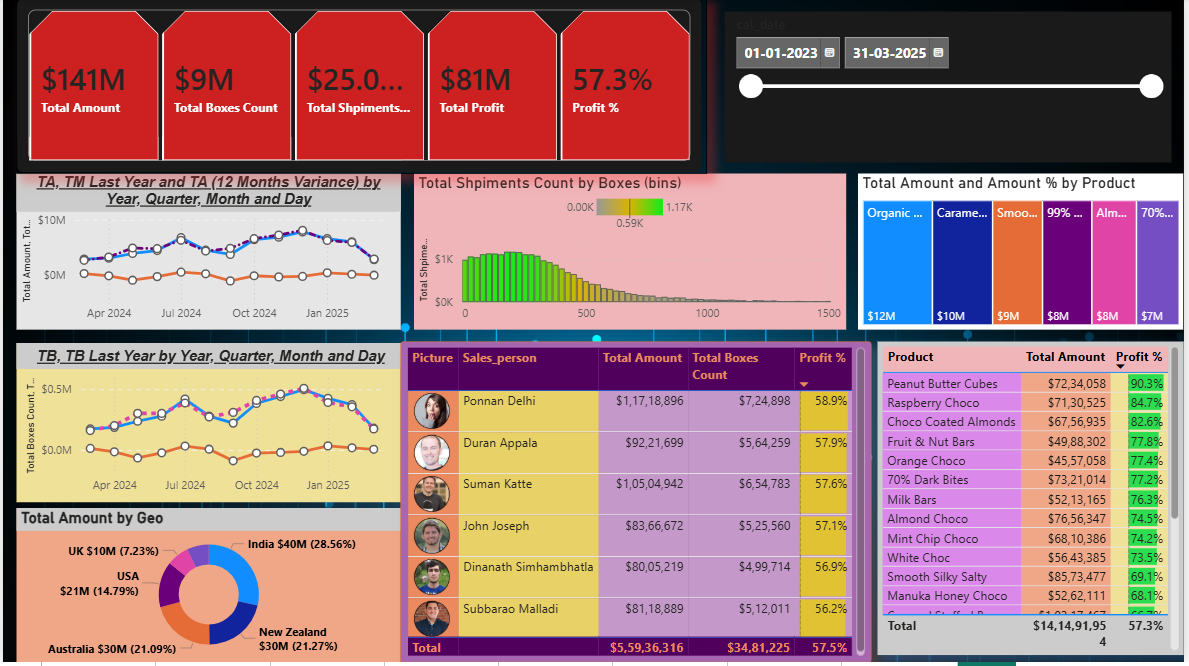

Layout of this report page (visuals, bound fields, positions):
{"tool":"powerbi","page":{"name":"Page 8","canvas":[1280,720],"ordinal":7},"visuals":[{"type":"lineChart","title":"TA, TM Last Year and TA (12 Months Variance) by Year, Quarter, Month and Day","fields":{"Y":["shipments.Total Amount","shipments.Total Amount Last Year","shipments.Total Amount (12 Months Variance)"],"Category":["calendar.Start of Month.Variation.Date Hierarchy.Year","calendar.Start of Month.Variation.Date Hierarchy.Quarter","calendar.Start of Month.Variation.Date Hierarchy.Month","calendar.Start of Month.Variation.Date Hierarchy.Day"]},"box":[14.6,190.3,416.4,169.2],"z":0},{"type":"lineChart","title":"TB, TB Last Year  by Year, Quarter, Month and Day","fields":{"Category":["calendar.Start of Month.Variation.Date Hierarchy.Year","calendar.Start of Month.Variation.Date Hierarchy.Quarter","calendar.Start of Month.Variation.Date Hierarchy.Month","calendar.Start of Month.Variation.Date Hierarchy.Day"],"Y":["shipments.Total Boxes Count","shipments.Total Boxes Last year","shipments.Total Boxes (12 Months Variance)"]},"box":[14.6,374.1,416.4,172.4],"z":1000},{"type":"donutChart","fields":{"Category":["locations.Geo"],"Y":["shipments.Total Amount"]},"box":[14.6,553,416.4,167.5],"z":2000},{"type":"columnChart","fields":{"Y":["shipments.Total Shpiments Count"],"Category":["shipments.Boxes (bins)"]},"box":[445.7,190.3,468.4,169.2],"z":3000},{"type":"tableEx","fields":{"Values":["people.Picture","people.Sales_person","shipments.Total Amount","shipments.Total Boxes Count","shipments.Profit %"]},"box":[431,372.5,510.7,348.1],"z":4000},{"type":"treemap","fields":{"Group":["products.Product"],"Values":["shipments.Total Amount"]},"box":[927.1,190.3,353,169.2],"z":5000},{"type":"tableEx","fields":{"Values":["products.Product","shipments.Total Amount","shipments.Profit %"]},"box":[948.3,372.5,331.8,339.9],"z":6000},{"type":"cardVisual","fields":{"Data":["shipments.Total Amount","shipments.Total Boxes Count","shipments.Total Shpiments Count","shipments.Profit","shipments.Profit %"]},"box":[15.1,0,748.4,190.9],"z":7000},{"type":"slicer","fields":{"Values":["calendar.cal_date"]},"box":[782.4,15.1,483.8,162.5],"z":8000}]}

Visuals, with their boxes in screenshot pixels (x1, y1, x2, y2), scaled from the page's 1280x720 canvas onto the 1189x666 screenshot:
"TA, TM Last Year and TA (12 Months Variance) by Year, Quarter, Month and Day" lineChart: locate(14, 176, 400, 333)
"TB, TB Last Year  by Year, Quarter, Month and Day" lineChart: locate(14, 346, 400, 506)
donutChart - locations.Geo x shipments.Total Amount: locate(14, 512, 400, 665)
columnChart - shipments.Total Shpiments Count x shipments.Boxes (bins): locate(414, 176, 849, 333)
tableEx - people.Picture x people.Sales_person: locate(400, 345, 875, 665)
treemap - products.Product x shipments.Total Amount: locate(861, 176, 1188, 333)
tableEx - products.Product x shipments.Total Amount: locate(881, 345, 1188, 659)
cardVisual - shipments.Total Amount x shipments.Total Boxes Count: locate(14, 0, 709, 177)
slicer - calendar.cal_date: locate(727, 14, 1176, 164)
